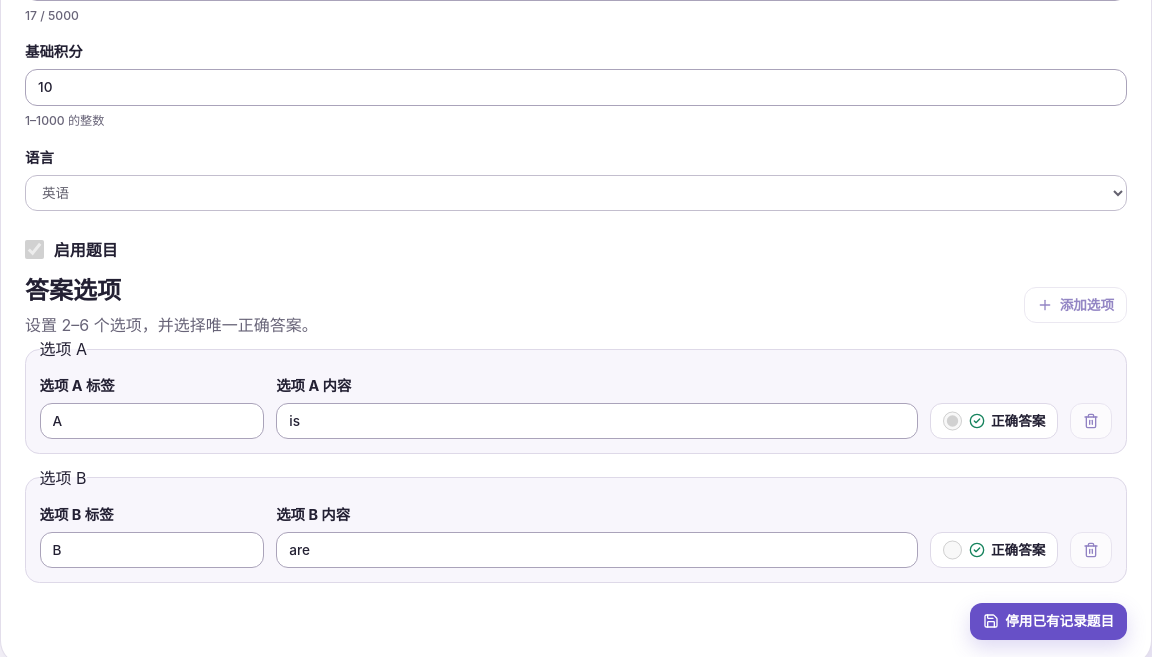
管理员题目表单 › 已有答题记录时字段只读且停用只发送 isActive false
This screenshot has width=1152, height=657.
(page scrolled)
Expected: the number field labelled "基础积分" is disabled, [25,69,1127,106]
Click the button "停用已有记录题目" at (1048, 621), box [970,603,1127,640]
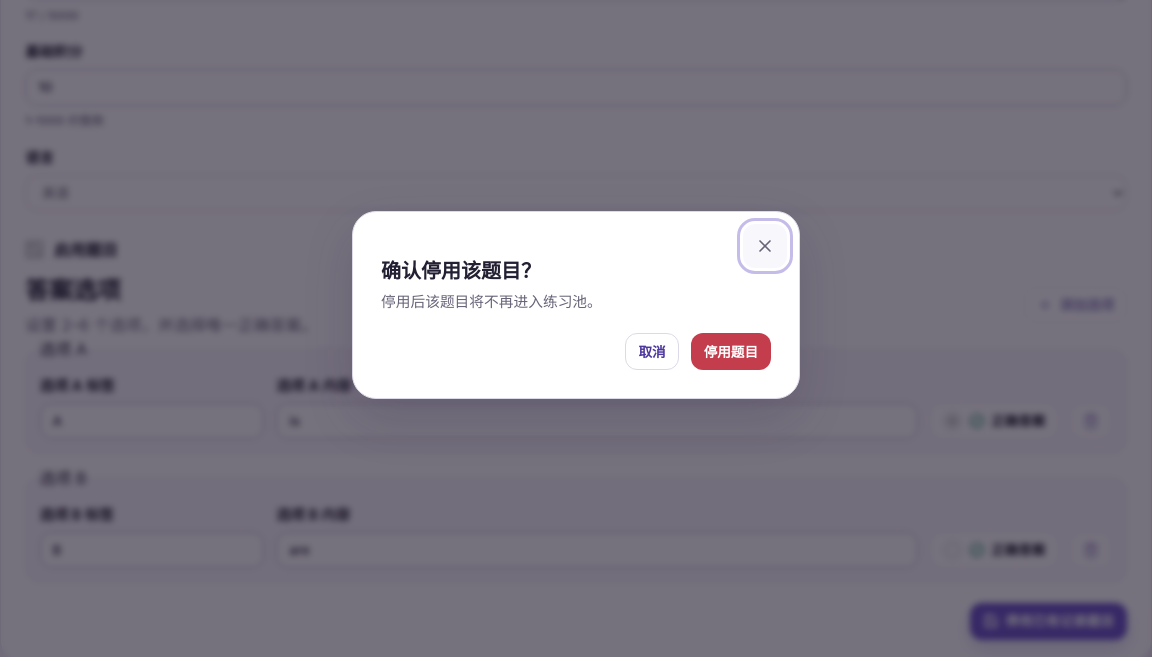
Expected: the dialog "确认停用该题目？" is shown, [352,211,800,399]
Click the button "停用题目" at (731, 352), box [691,334,771,370]
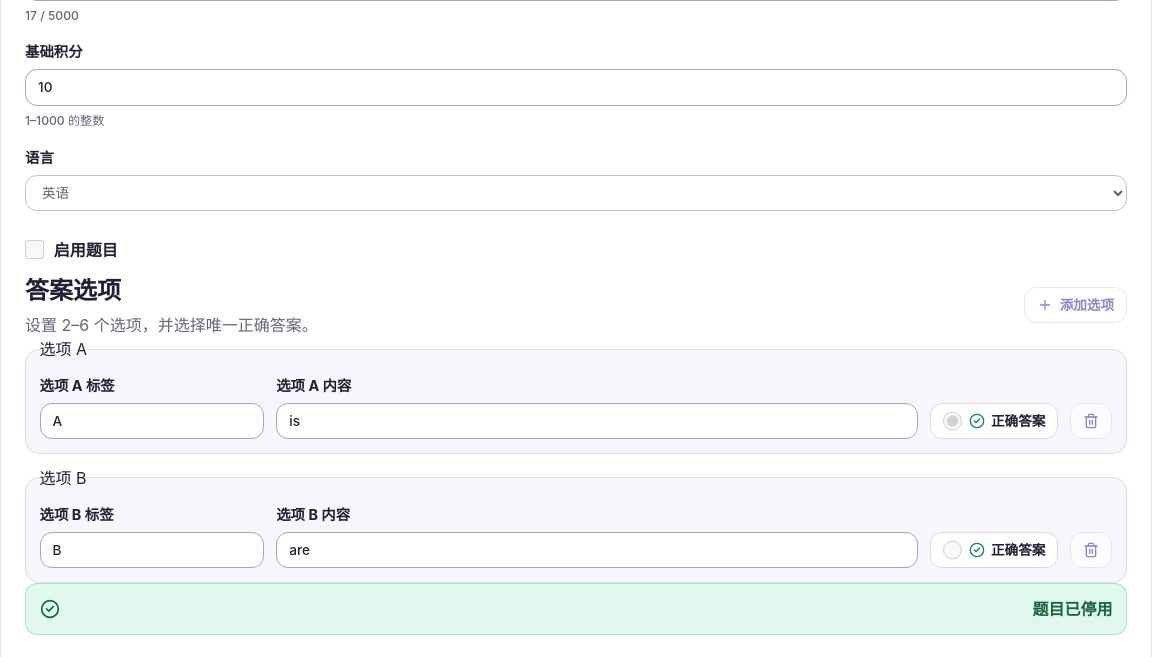
Expected: the text "题目已停用" is shown, [25,583,1127,635]
